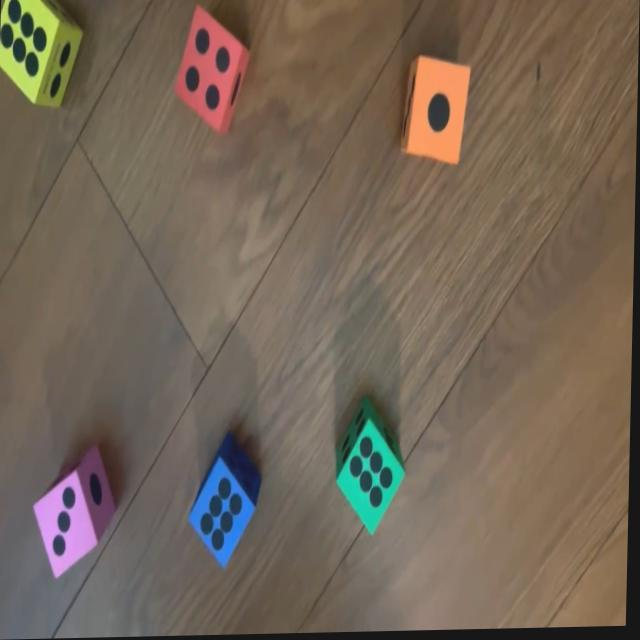blue_block: (190, 430, 264, 565)
red_block: (175, 8, 249, 135)
